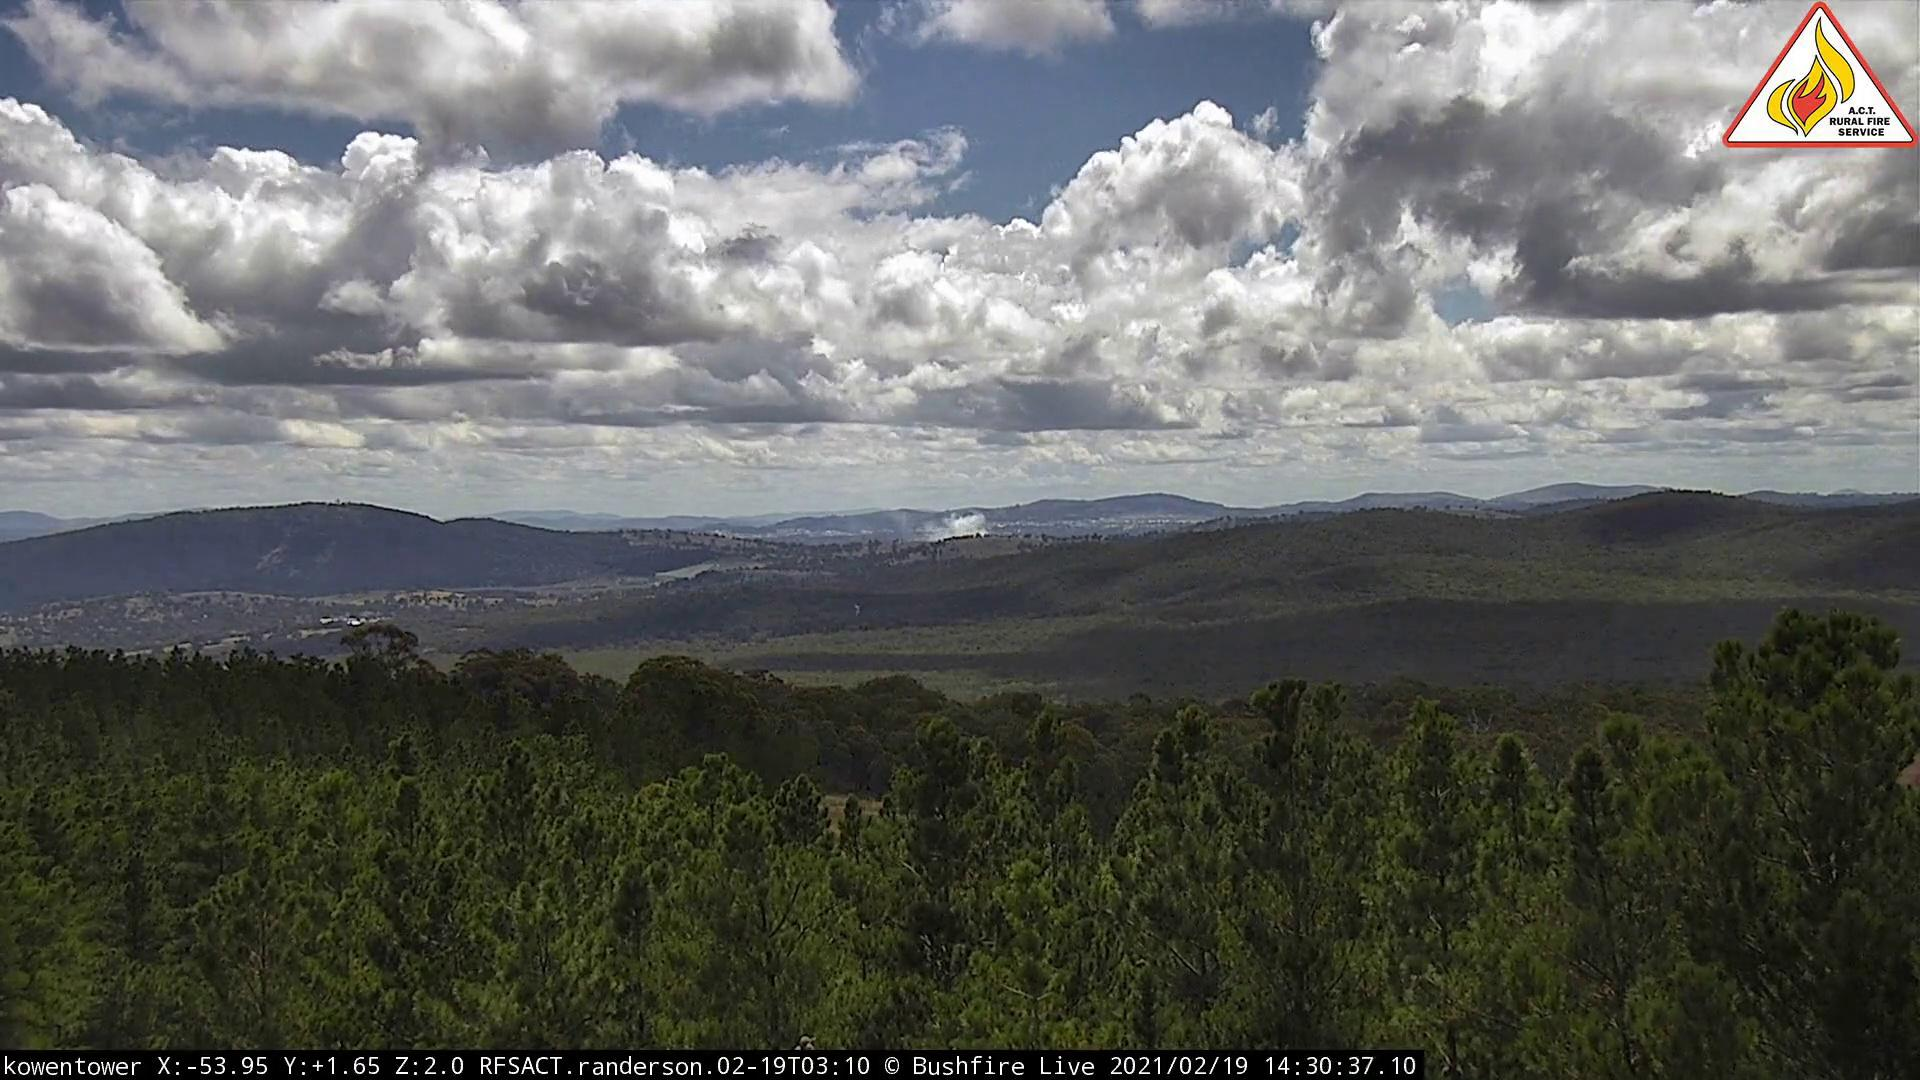Smoke: (880, 495, 1004, 553)
